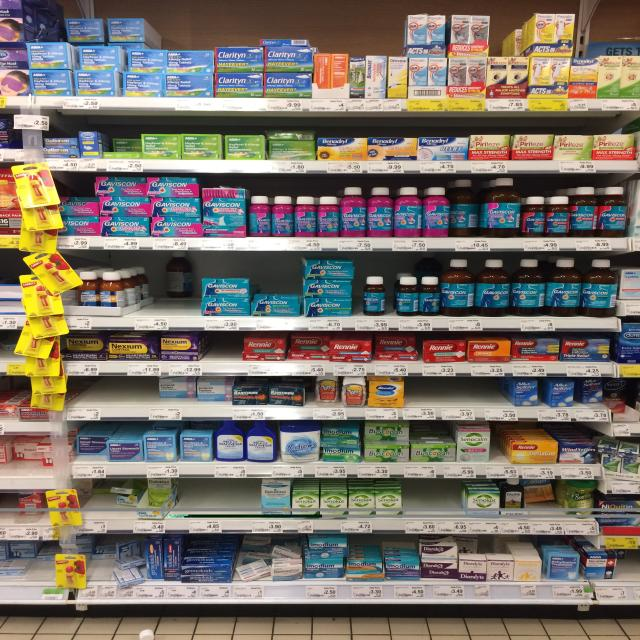unorganised: (162, 248, 196, 297), (451, 177, 478, 233), (156, 375, 199, 401), (520, 477, 556, 505), (568, 483, 596, 515), (113, 543, 144, 568), (236, 560, 270, 582), (111, 566, 144, 588), (14, 491, 44, 515), (315, 375, 341, 402), (576, 376, 603, 402), (606, 377, 625, 413), (270, 542, 303, 561), (110, 486, 139, 507), (77, 437, 107, 456), (10, 540, 36, 559), (37, 542, 65, 559), (12, 444, 41, 460), (110, 139, 142, 152)
